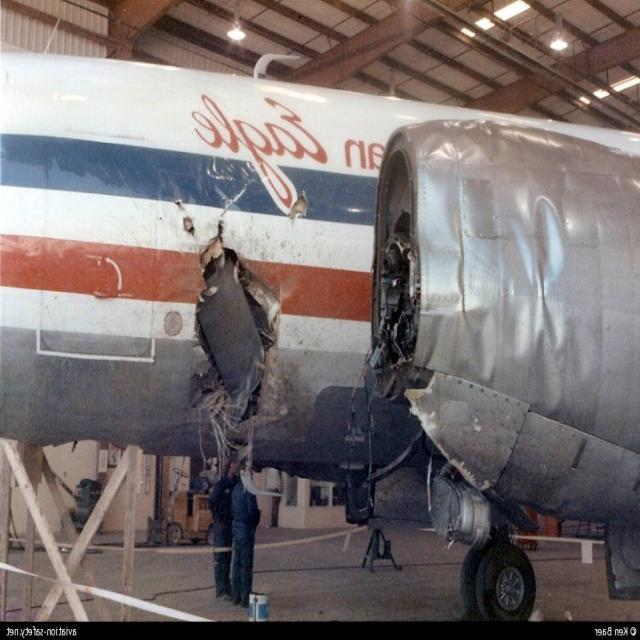dent: (422, 192, 602, 377)
